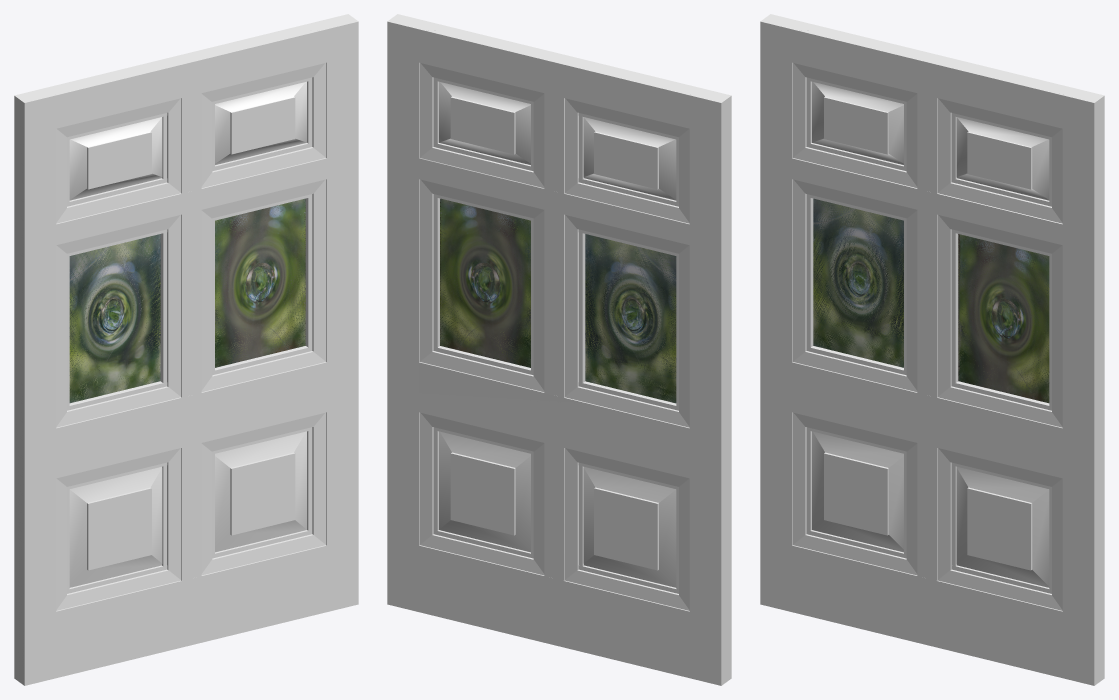
The model's file is 6PanelDoor02White.fbx.
The picture shows the model from 3 angles, left to right: view 1: azimuth 30°, elevation 25°; view 2: azimuth 150°, elevation 25°; view 3: azimuth 330°, elevation 25°; orthographic projection.
Parts seen in each view (by area): view 1: default; view 2: default; view 3: default.
Part boxes in pixels (x1,y1,x2,y2): default: [14, 14, 358, 685]; default: [387, 14, 731, 685]; default: [760, 14, 1104, 685].
Bounding box in the file's own units: 129 × 215 × 6.93.
